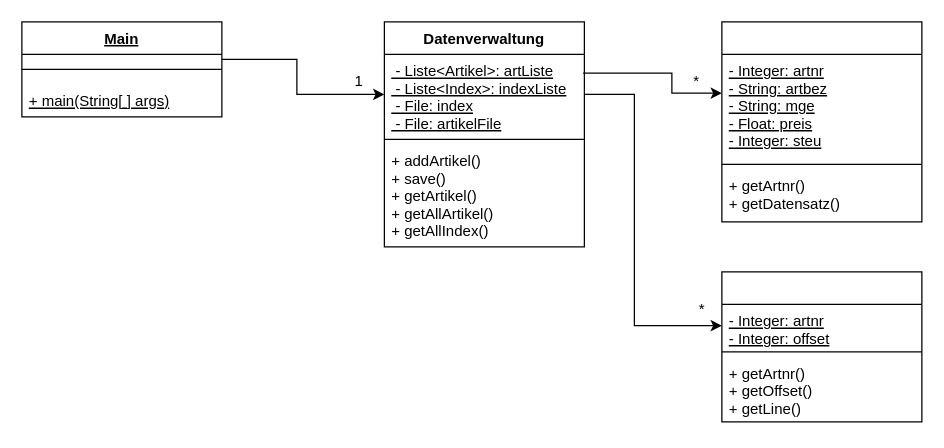
This 944x448 diagram has some shape labels left out. The shapes that lost their labels are listed below. From the top down, each one's box as (x1, y1, x2, y2) in pixels, then its label:
(721, 21, 922, 222): Artikel
(721, 271, 922, 422): Index
